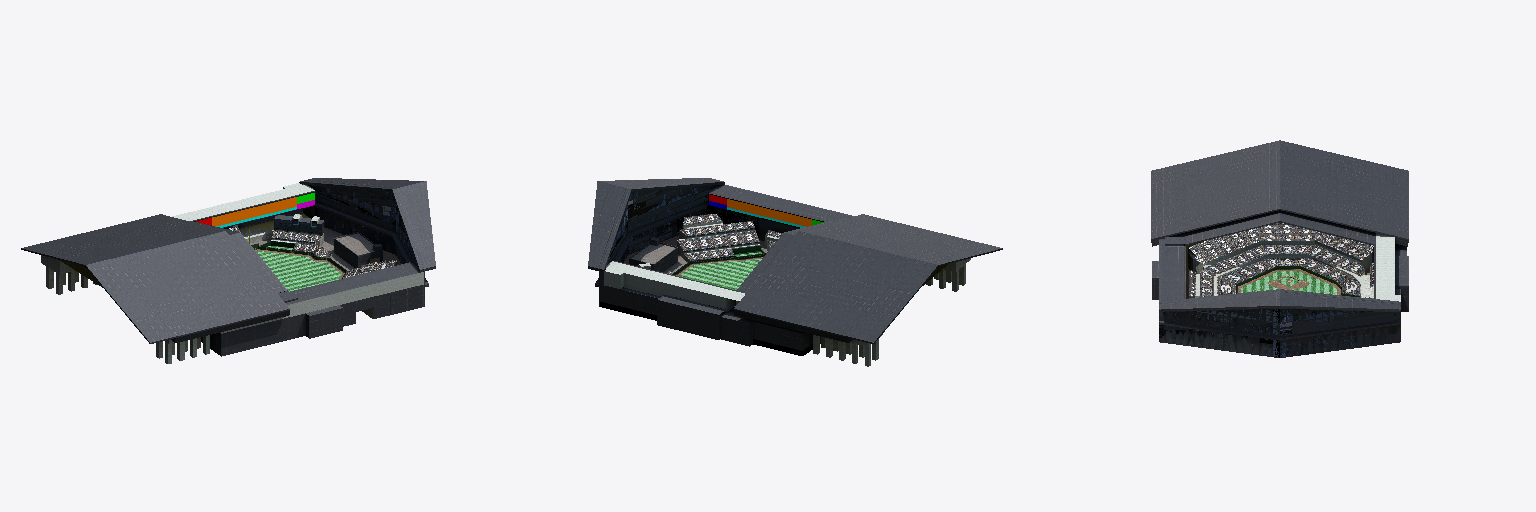
3 views of the same model, side by side, from view 1: azimuth 30°, elevation 25°; view 2: azimuth 150°, elevation 25°; view 3: azimuth 270°, elevation 25° (orthographic).
Parts seen in each view (by area): view 1: Cylinder.011, Cylinder.003, Cylinder.013, Cylinder.014, Cylinder.004, Cylinder.006, Cylinder.015; view 2: Cylinder.011, Cylinder.003, Cylinder.006, Cylinder.013, Cylinder.014, Cylinder.004; view 3: Cylinder.011, Cylinder.006, Cylinder.003, Cylinder.013, Cylinder.015, Cylinder.
Boxes of the visible parts, box(x1,y1,x2,y2) form: Cylinder.011: box(21, 178, 435, 356); Cylinder.003: box(41, 183, 423, 363); Cylinder.013: box(257, 246, 341, 291); Cylinder.014: box(196, 193, 314, 227); Cylinder.004: box(250, 227, 400, 270); Cylinder.006: box(228, 227, 396, 277); Cylinder.015: box(275, 188, 416, 263); Cylinder.011: box(588, 178, 1002, 355); Cylinder.003: box(604, 221, 970, 366); Cylinder.006: box(667, 214, 782, 306); Cylinder.013: box(679, 251, 761, 289); Cylinder.014: box(709, 194, 824, 227); Cylinder.004: box(624, 235, 767, 273); Cylinder.011: box(1151, 140, 1408, 357); Cylinder.006: box(1188, 223, 1373, 297); Cylinder.003: box(1188, 233, 1400, 301); Cylinder.013: box(1241, 271, 1336, 294); Cylinder.015: box(1167, 309, 1373, 356); Cylinder: box(1237, 269, 1340, 294).
Bounding box in the file's own units: 291 × 54.46 × 191.
14 materials, 13 textured.